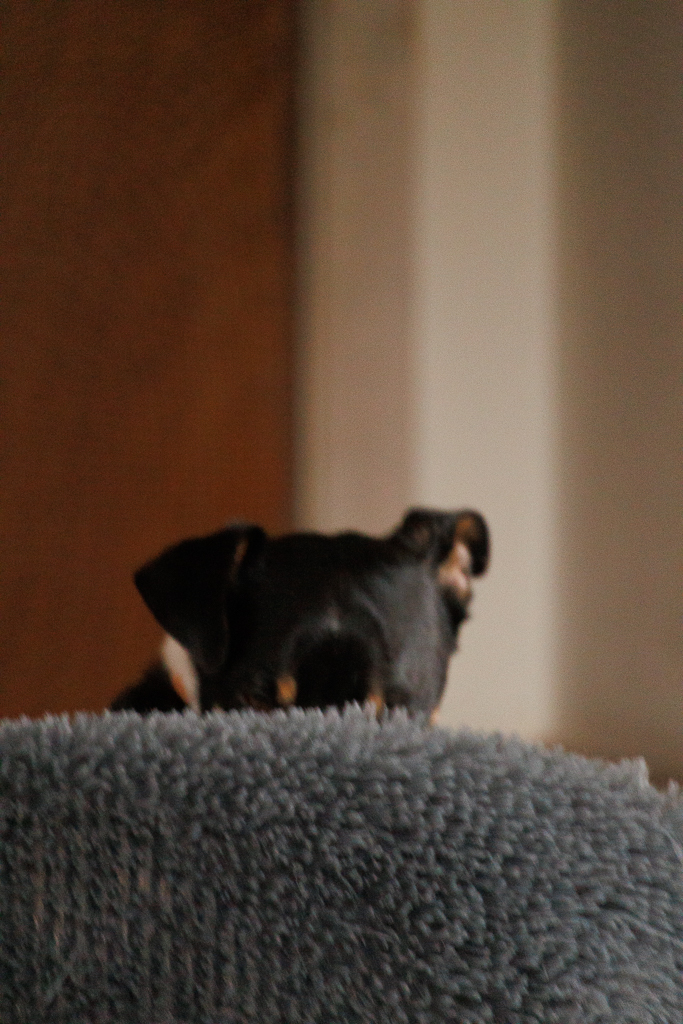Dog: (82, 473, 502, 747)
